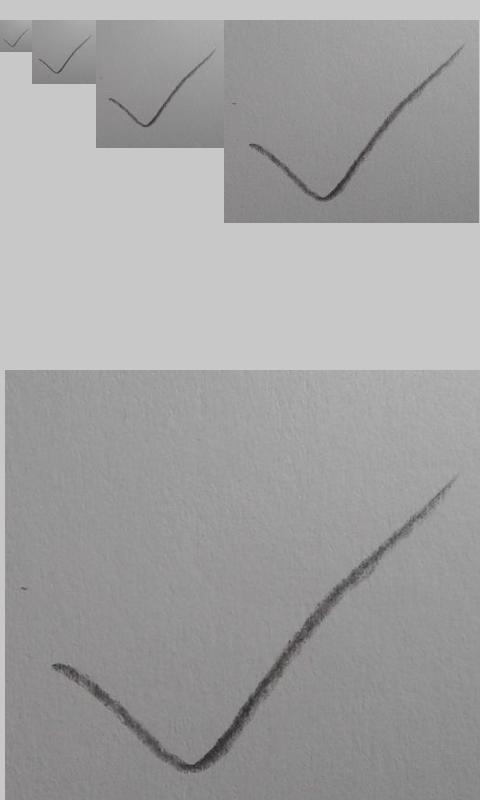check_box: (47, 478, 453, 774), (250, 45, 465, 202), (109, 49, 216, 128), (38, 36, 92, 74), (3, 29, 29, 47)
